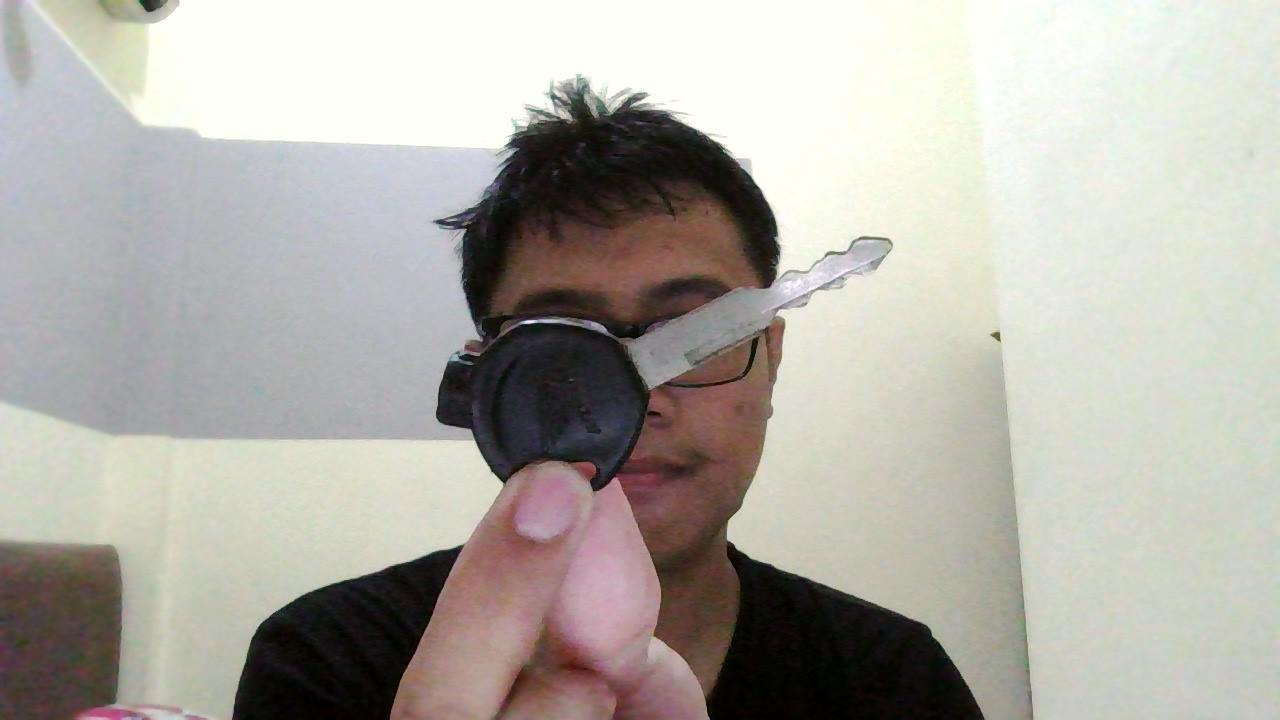keys: (427, 190, 895, 524)
